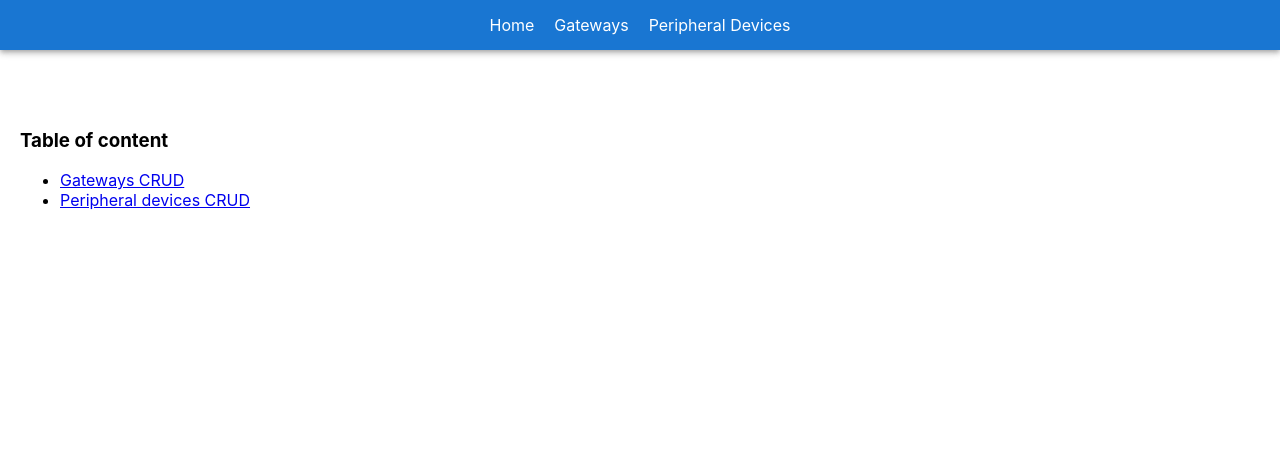
Test: navigation tests › navigates by buttons and links
expect the heading "Table of content" is shown: met, box [20,129,168,152]
Click the link "Gateways" at (591, 25), box [554,15,628,35]
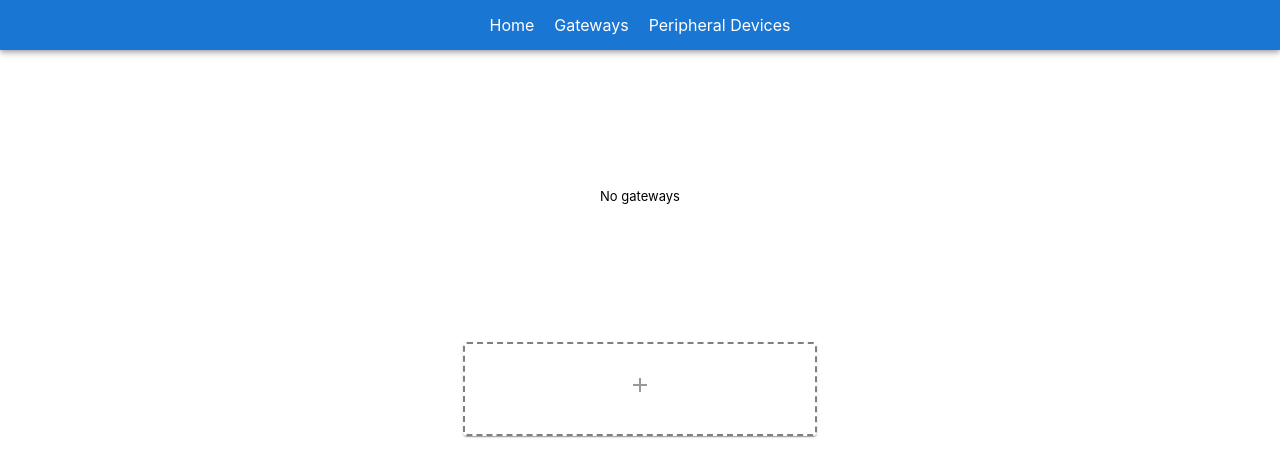
expect the element with test id "gateway_add_card" is shown: met, box [628,373,652,397]
Click the link "Peripheral Devices" at (720, 25), box [649,15,791,35]
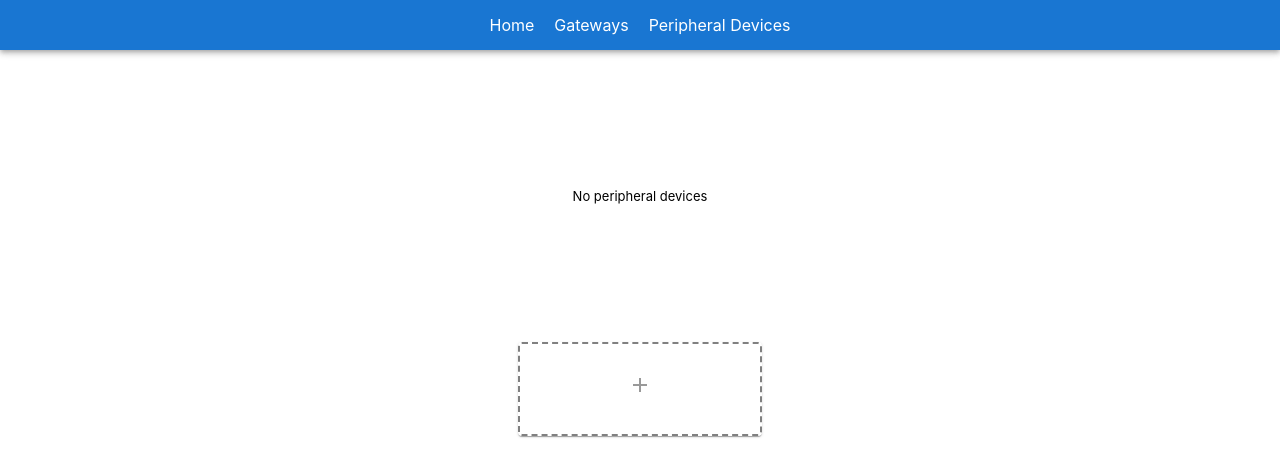
expect the element with test id "peripheral_device_add_card" is shown: met, box [628,373,652,397]
Click the link "Home" at (513, 25), box [490,15,535,35]
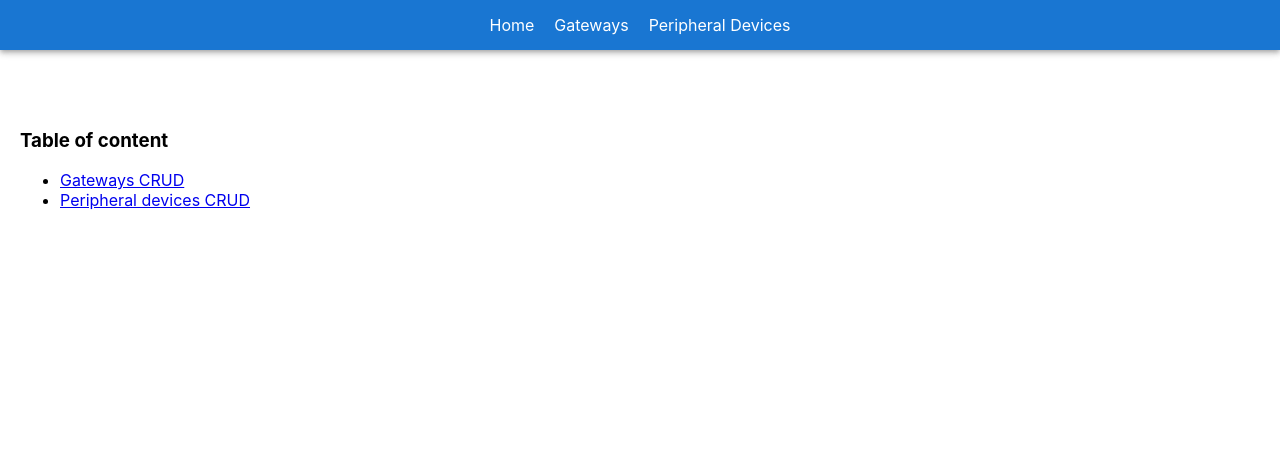
Click the link "Gateways CRUD" at (122, 180), box [60,170,184,190]
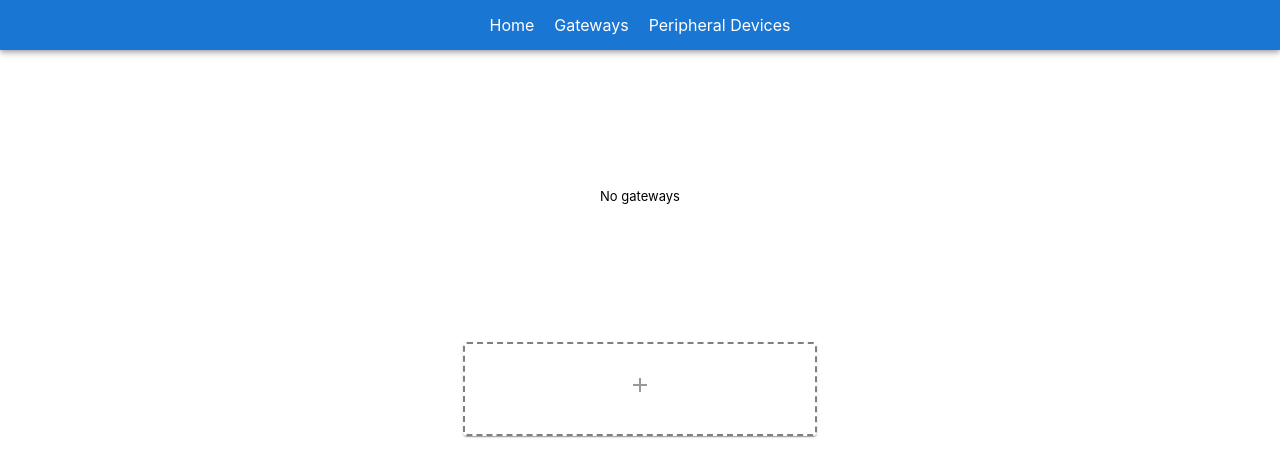
expect the element with test id "gateway_add_card" is shown: met, box [628,373,652,397]
Click the link "Home" at (513, 25), box [490,15,535,35]
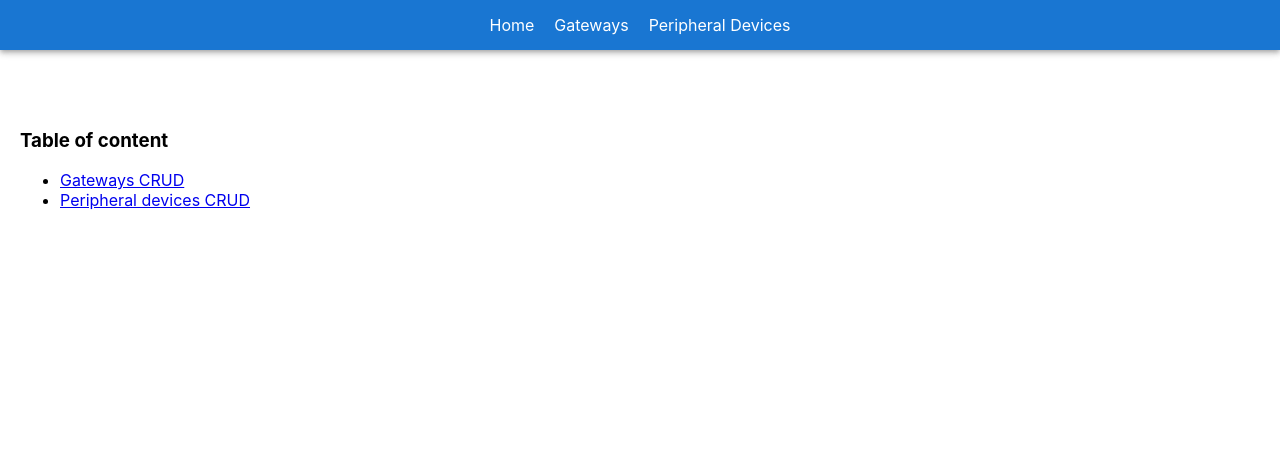
Click the link "Peripheral devices CRUD" at (155, 200), box [60,190,250,210]
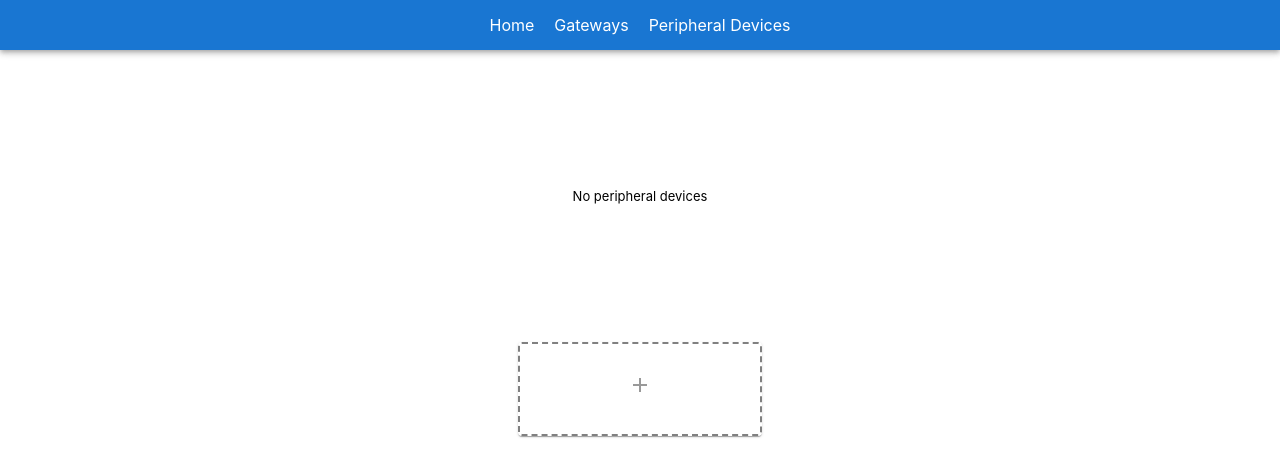
expect the element with test id "peripheral_device_add_card" is shown: met, box [628,373,652,397]
